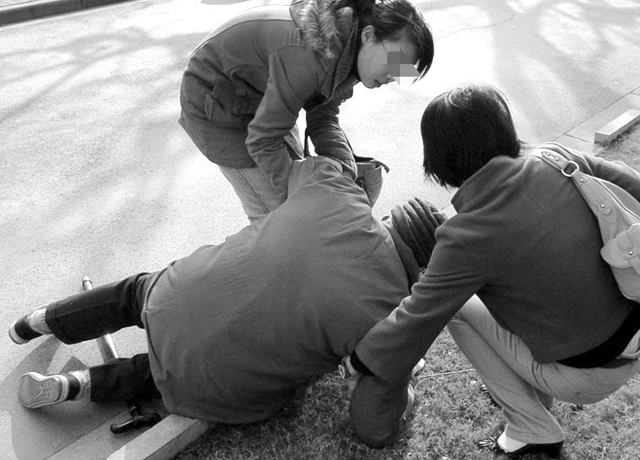falling: (25, 201, 458, 430)
sitting: (427, 84, 640, 455)
standing: (168, 4, 445, 240)
